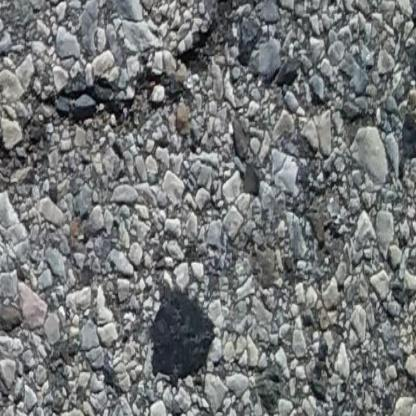Cracks: (0, 0, 281, 192)
